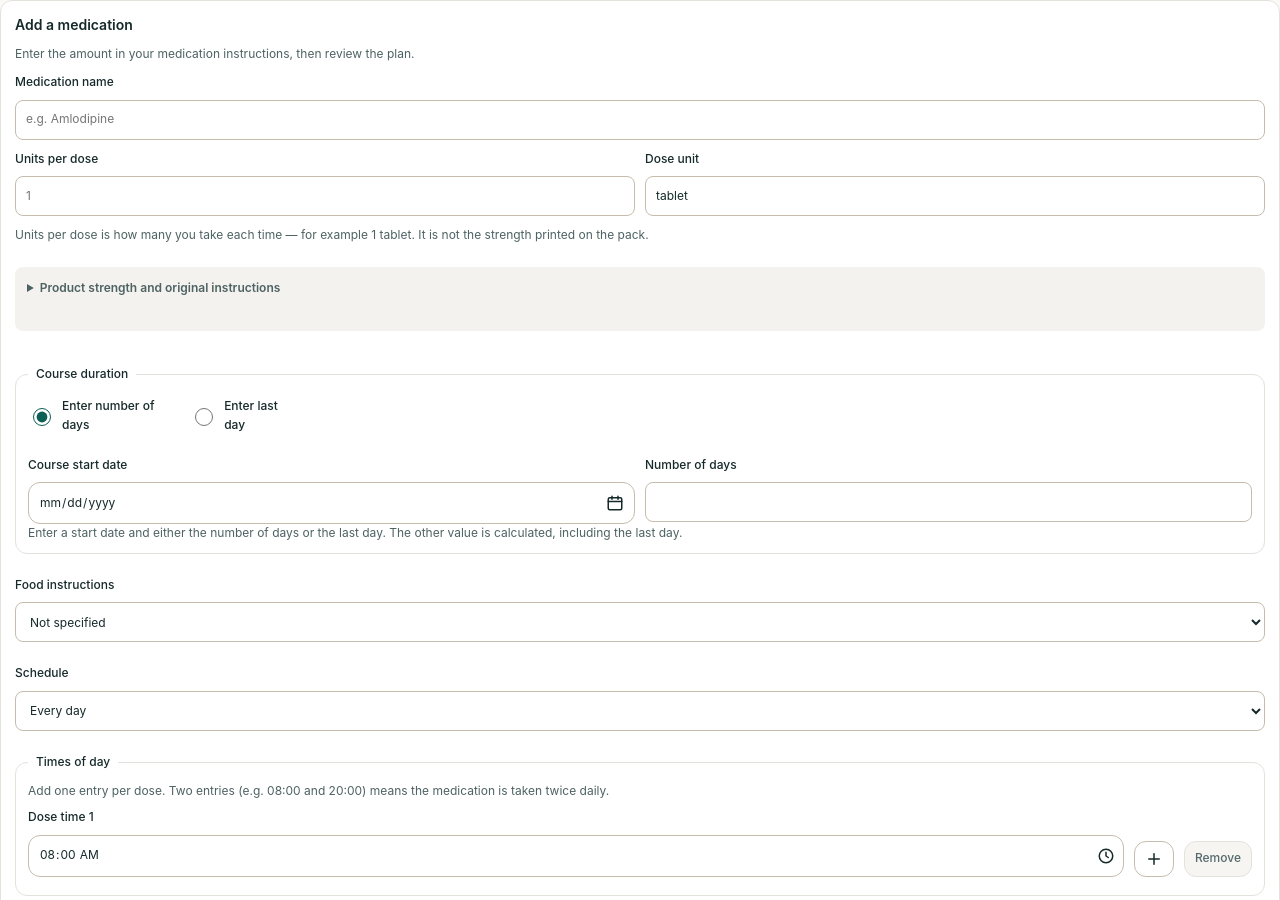
Test case: asks for only days or end date, converts between modes and keeps the original course fields
Type "2028-02-28" into the date field labelled "Course start date" at (117, 503), box 29,483 -> 205,523
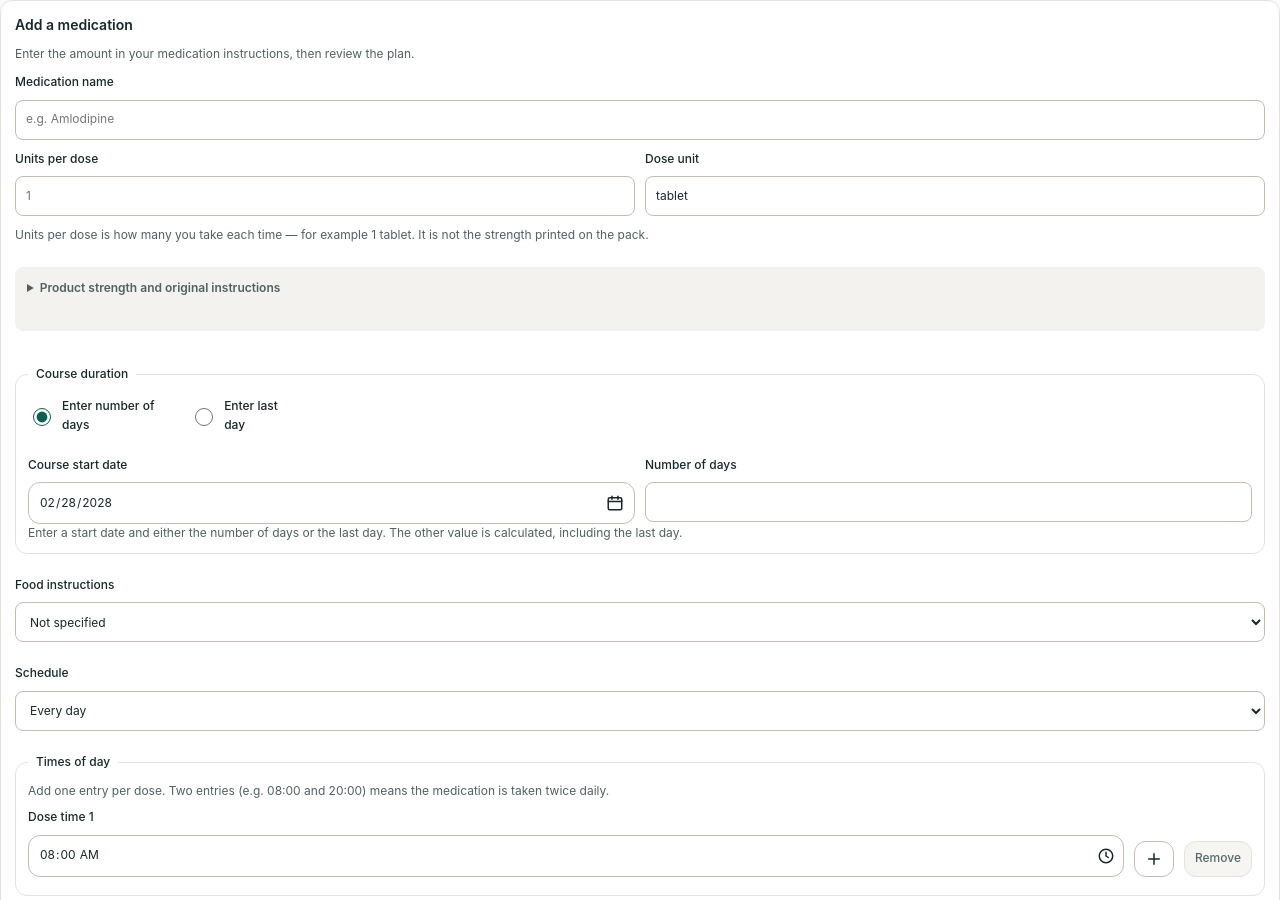
Type "3" into the number field labelled "Number of days" at (948, 502), box 645,482 -> 1252,522
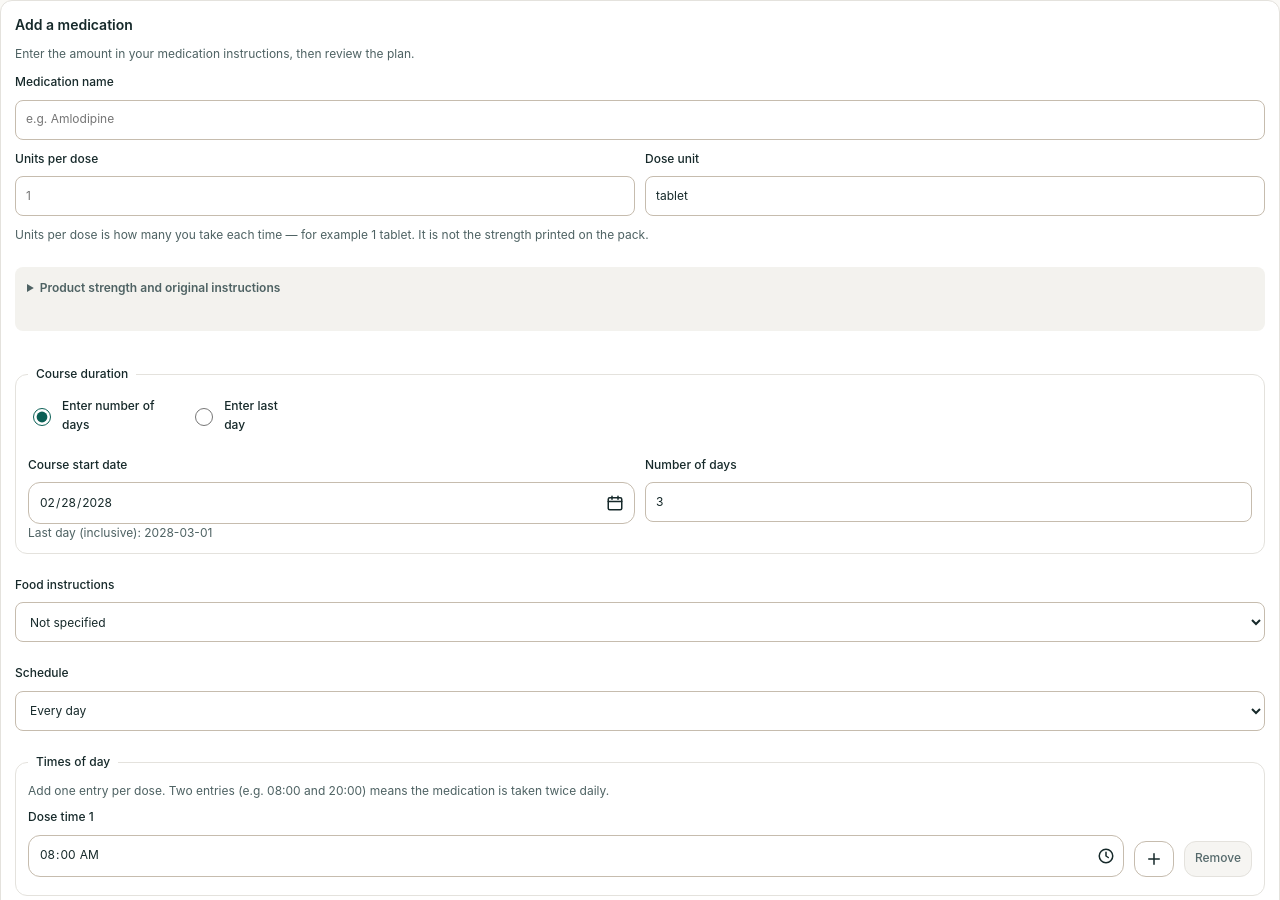
Expected: the text "Last day (inclusive): 2028-03-01" is shown, 28,525 -> 212,540
Click the radio button labelled "Enter last day" at (204, 417), box 195,408 -> 213,426
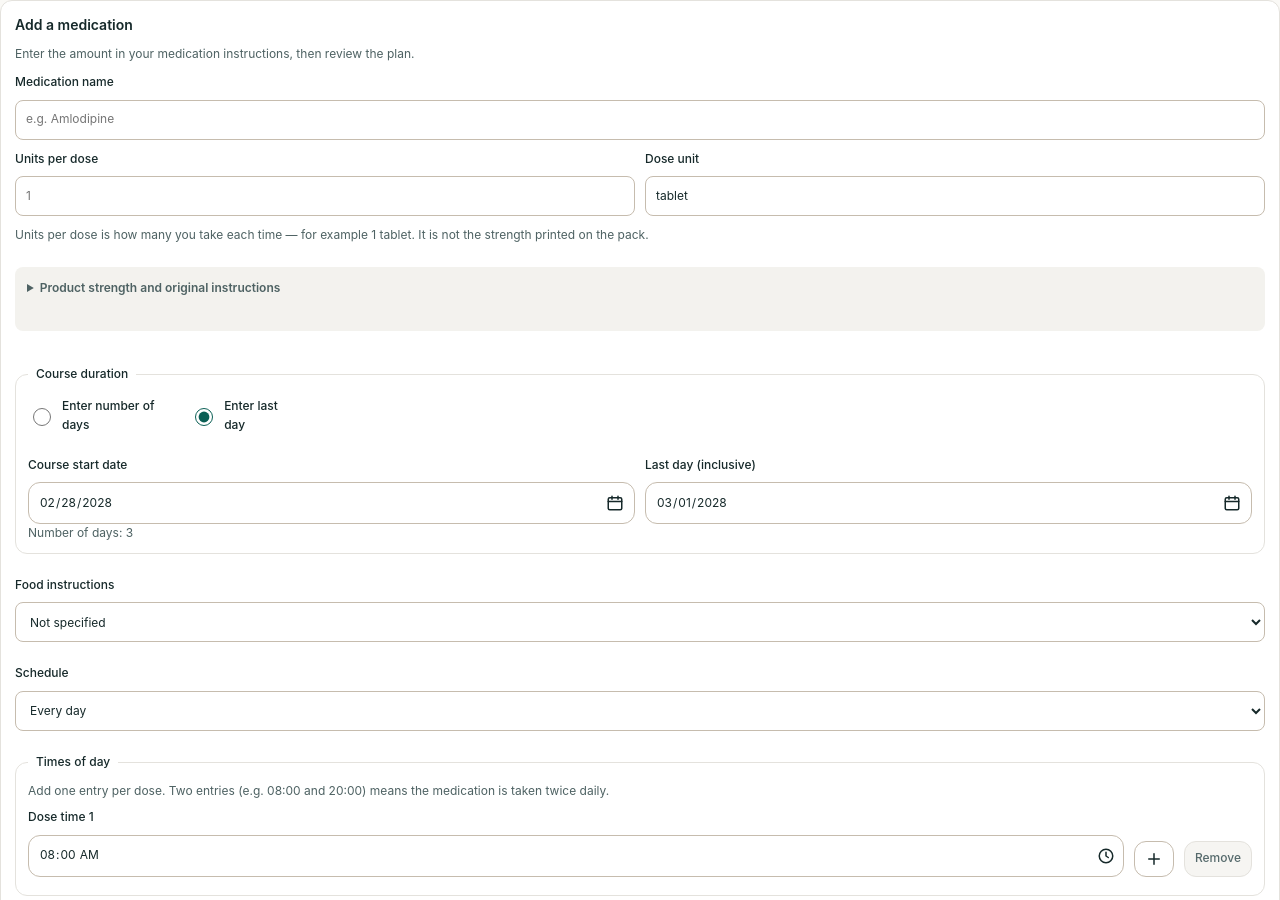
Expected: the date field labelled "Last day (inclusive)" holds "2028-03-01"
Type "2028-03-03" into the date field labelled "Last day (inclusive)" at (734, 503), box 646,483 -> 822,523
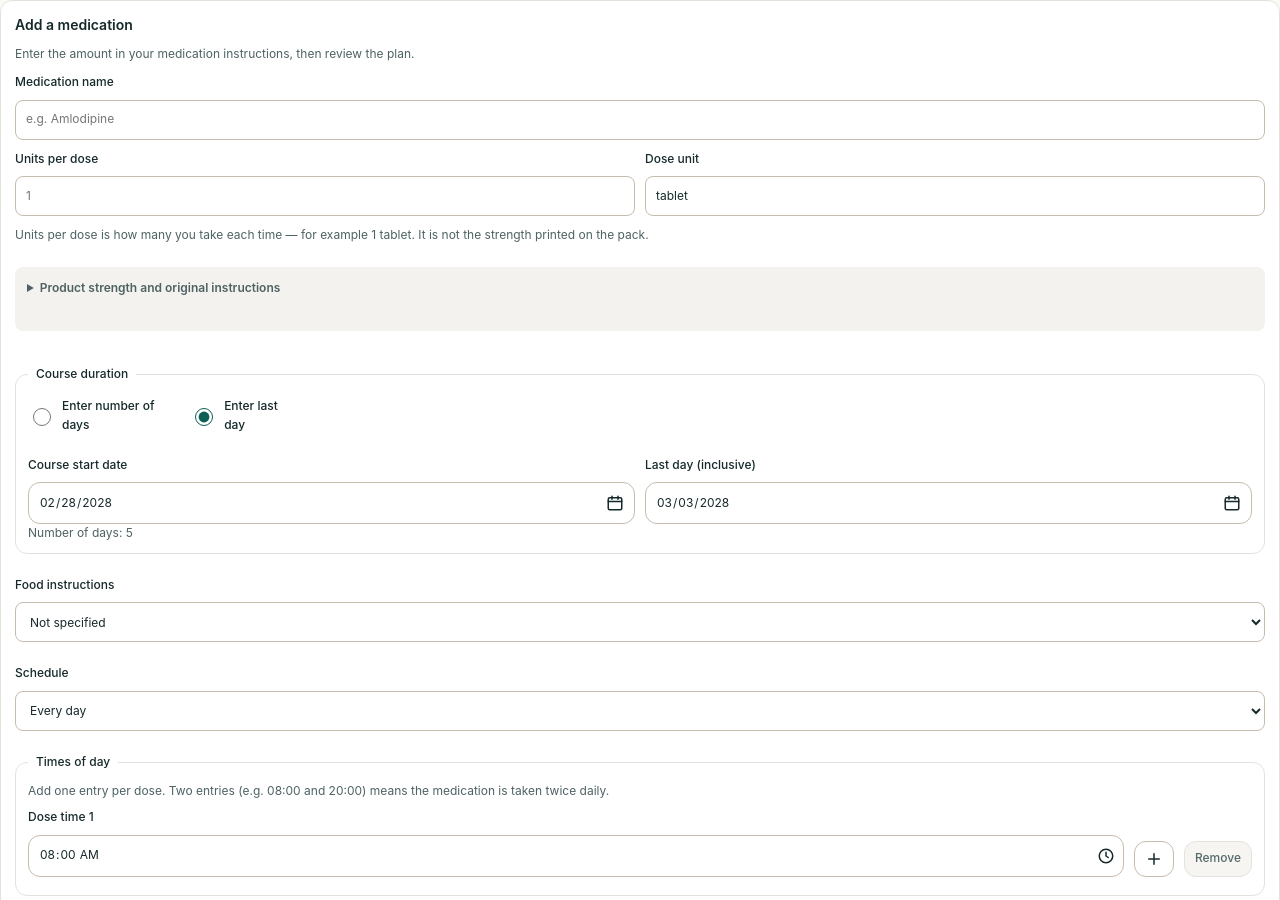
Expected: the text "Number of days: 5" is shown, 28,525 -> 133,540
Click the radio button labelled "Enter number of days" at (42, 417), box 33,408 -> 51,426
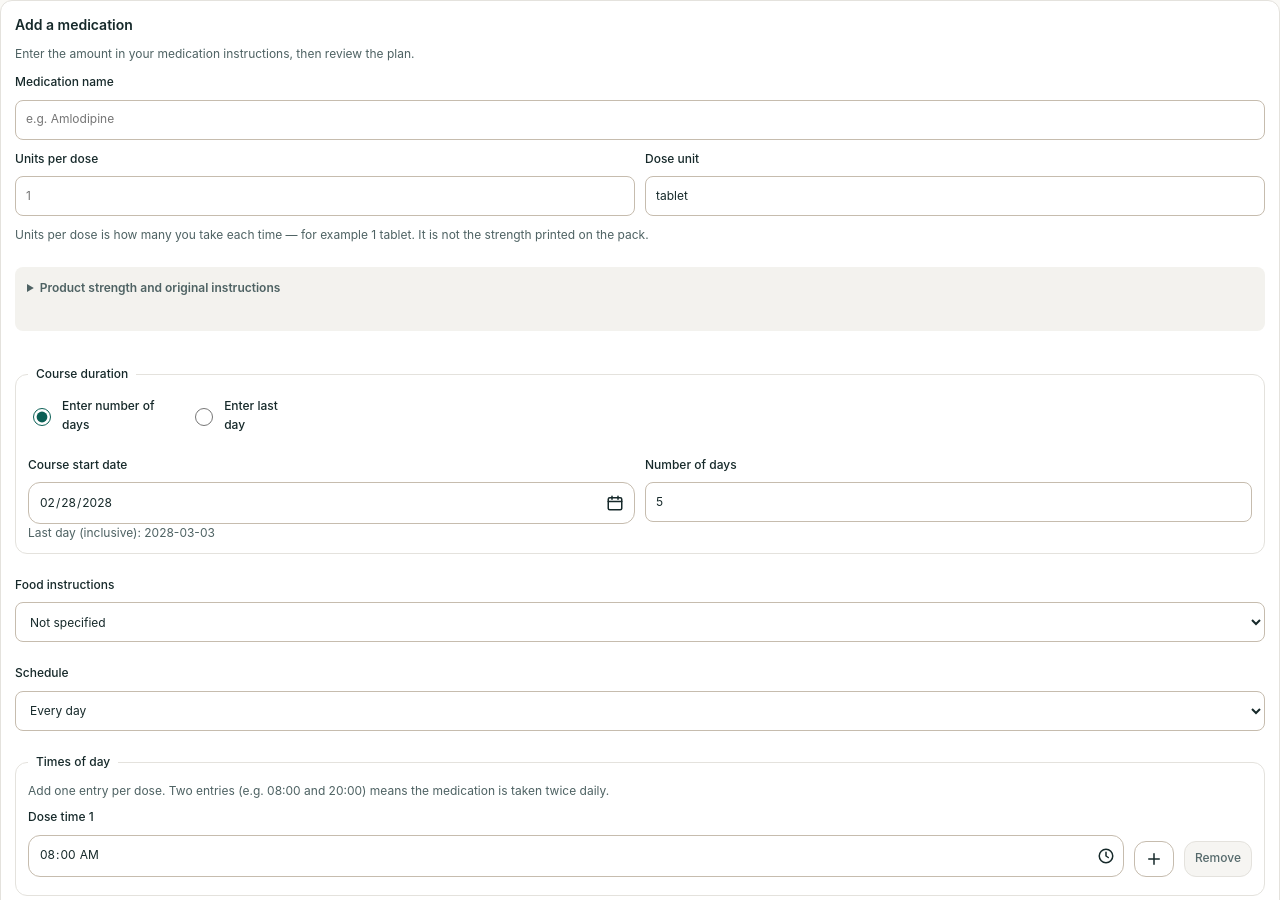
Expected: the number field labelled "Number of days" holds "5", 645,482 -> 1252,522
Type "2028-03-01" into the date field labelled "Course start date" at (117, 503), box 29,483 -> 205,523
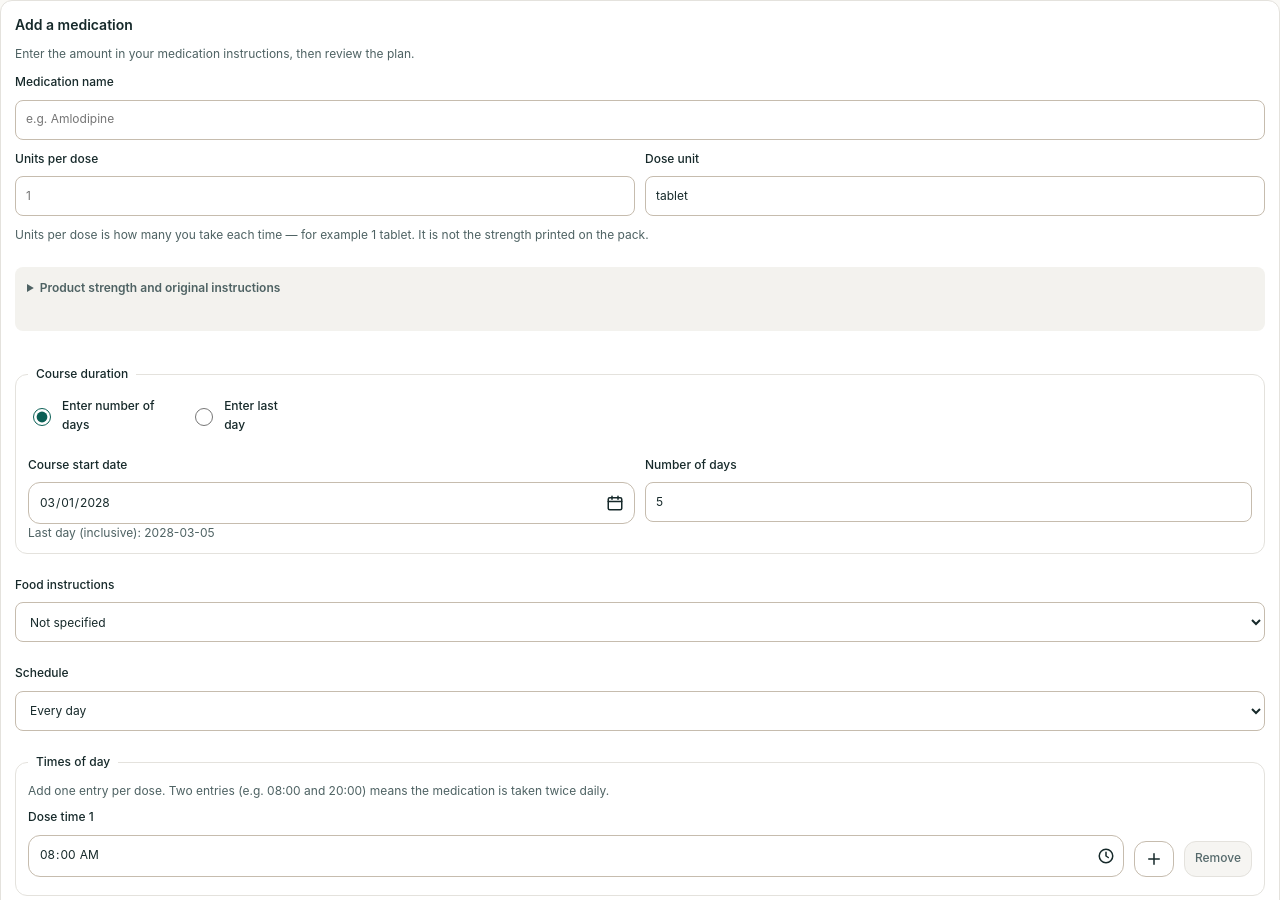
Expected: the text "Last day (inclusive): 2028-03-05" is shown, 28,525 -> 215,540
